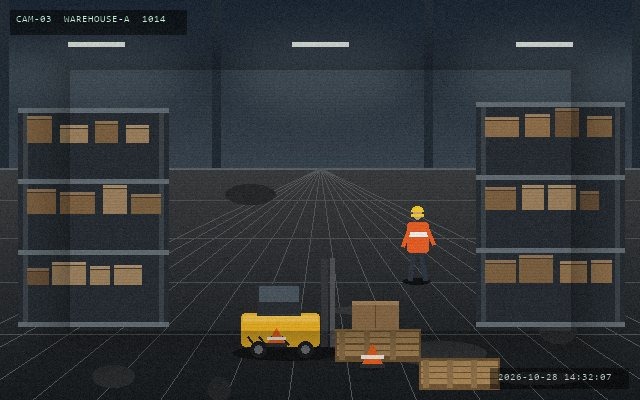cone: (359, 342, 385, 370), (265, 326, 287, 349)
forklift: (237, 256, 361, 360)
pallet: (333, 327, 422, 363), (417, 356, 501, 391)
person: (401, 204, 435, 283)
shelf: (476, 102, 624, 322), (18, 108, 168, 322)
